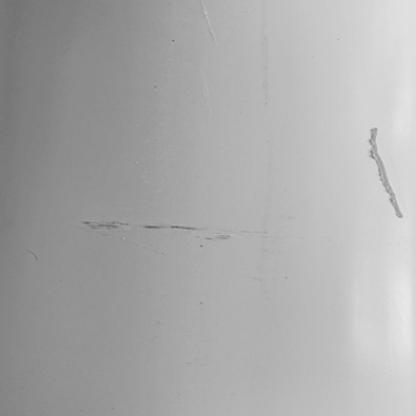sunshang: (79, 212, 242, 243), (366, 126, 409, 223)
